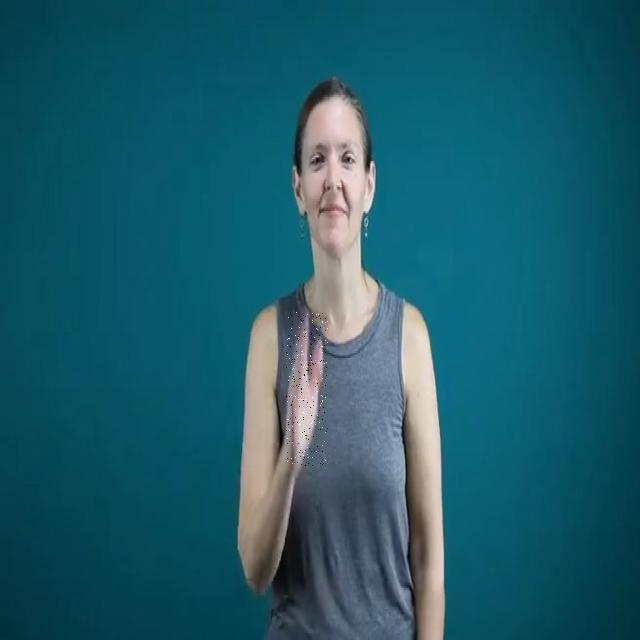napkin: (286, 312, 328, 466)
